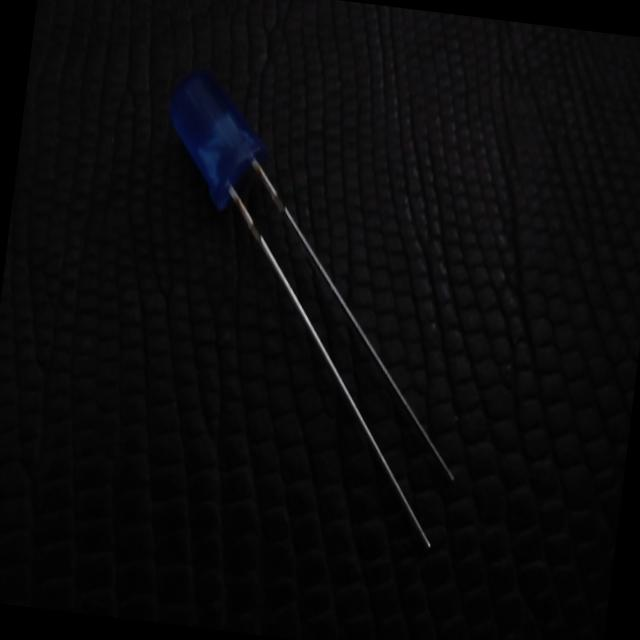blue_led: (156, 63, 278, 216)
